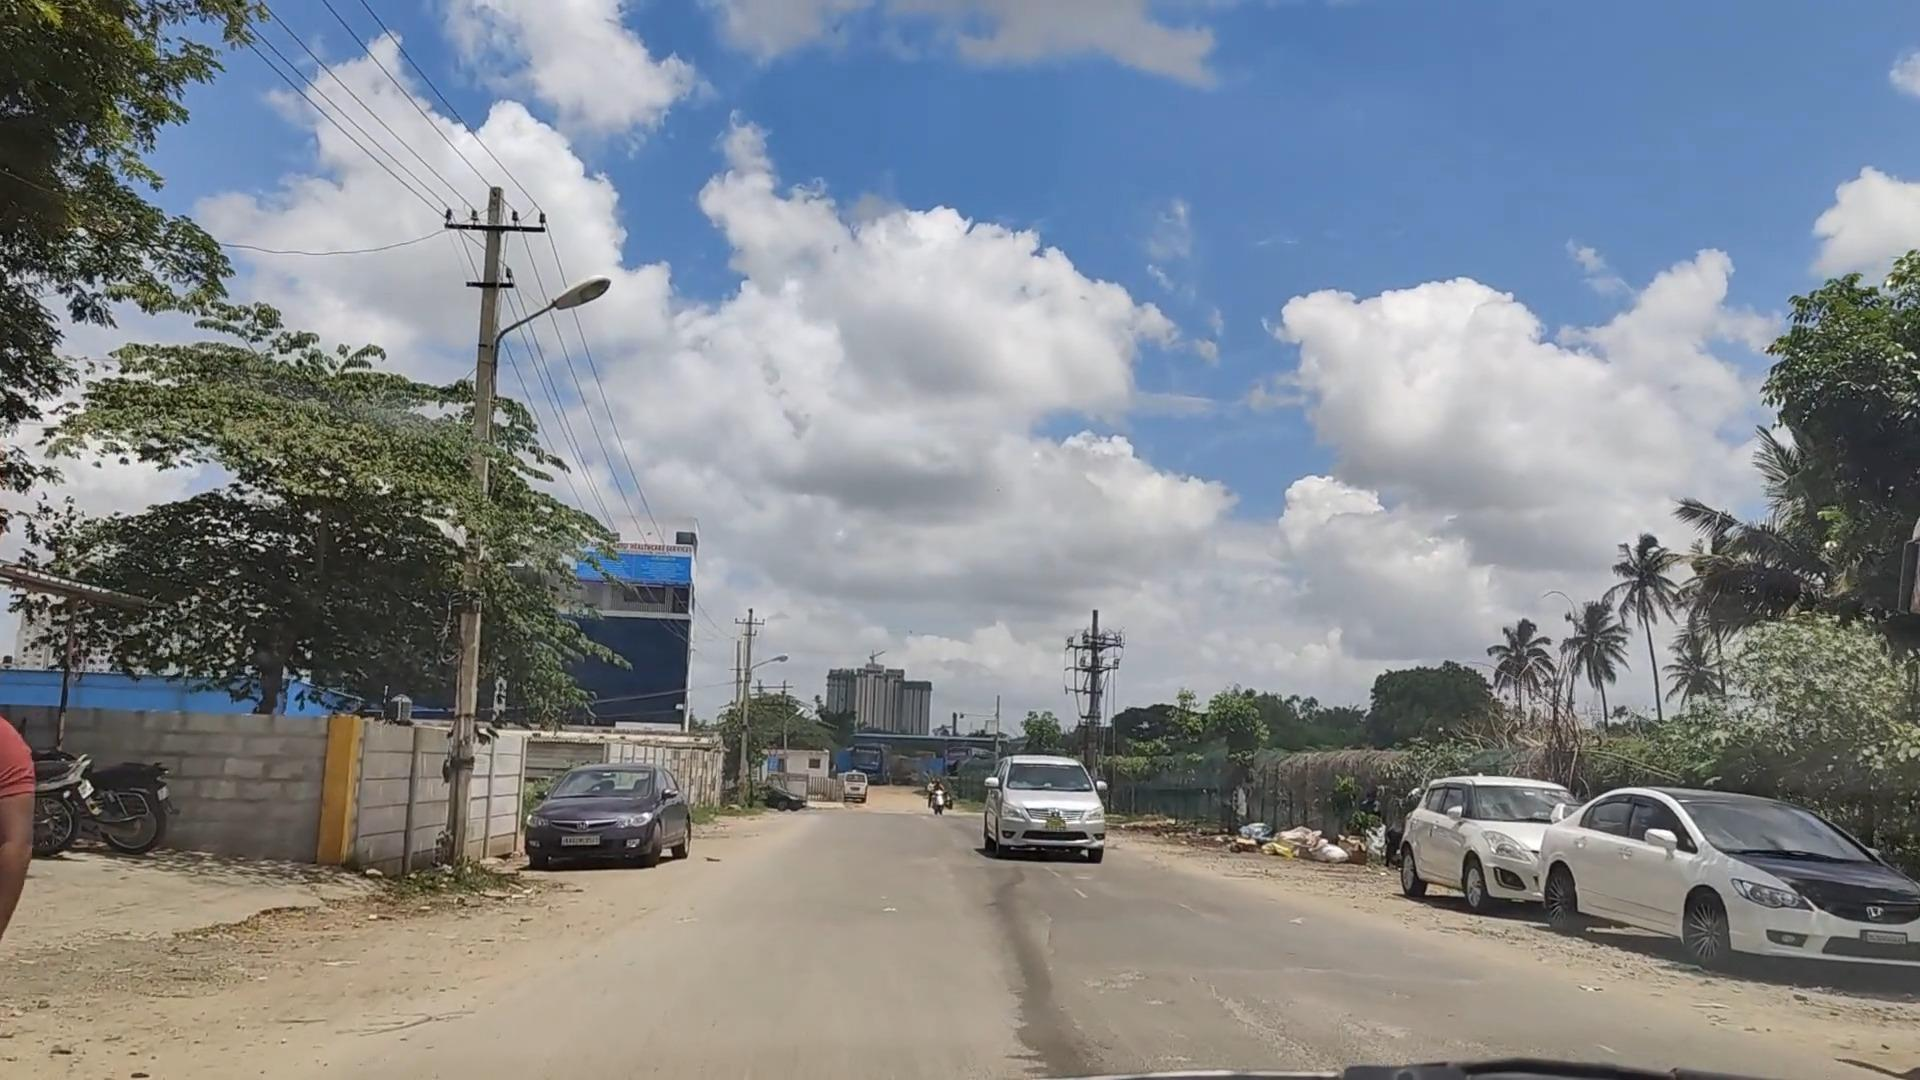LMV: (1565, 773, 1920, 998), (454, 725, 709, 873), (1386, 758, 1555, 924), (976, 756, 1112, 866)
RoadDamages: (1071, 945, 1569, 1080)
UnsurfacedRoad: (16, 924, 287, 1065)
